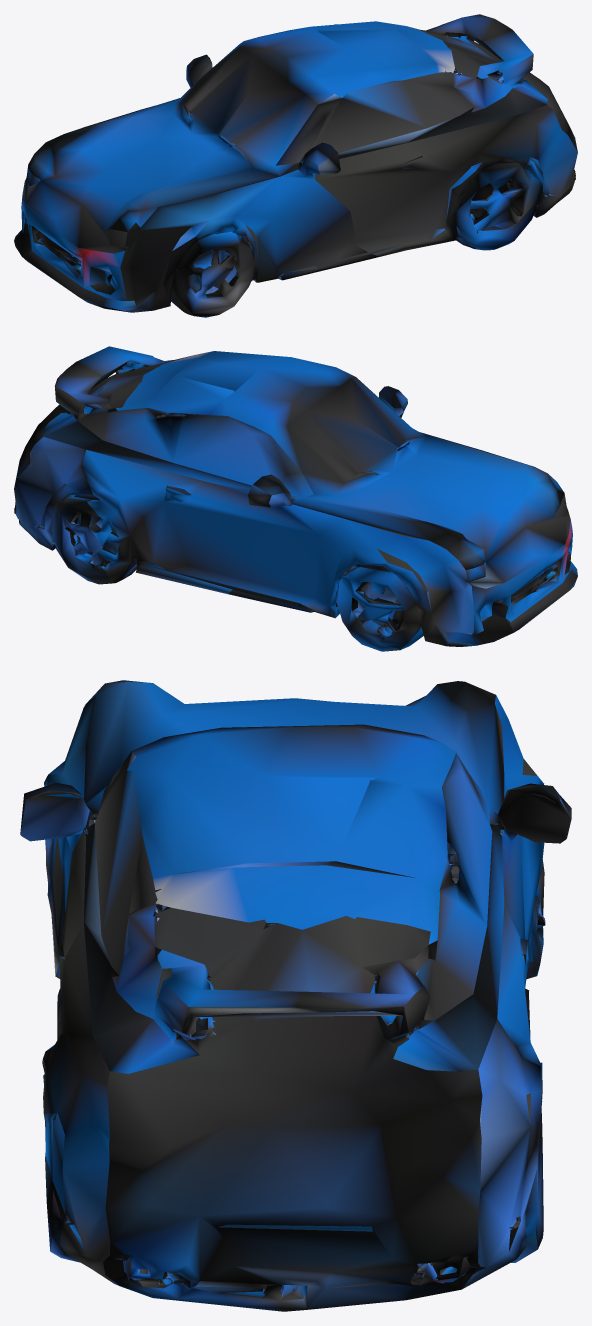
Rendered from Meshy_AI_Azure_Velocity_0807150759_texture.glb.
The picture shows the model from 3 angles, top to bottom: view 1: azimuth 30°, elevation 25°; view 2: azimuth 150°, elevation 25°; view 3: azimuth 270°, elevation 25°; orthographic projection. The views are drawn at different scales.
Bounding box in the file's own units: 1.99 × 0.727 × 0.959.
